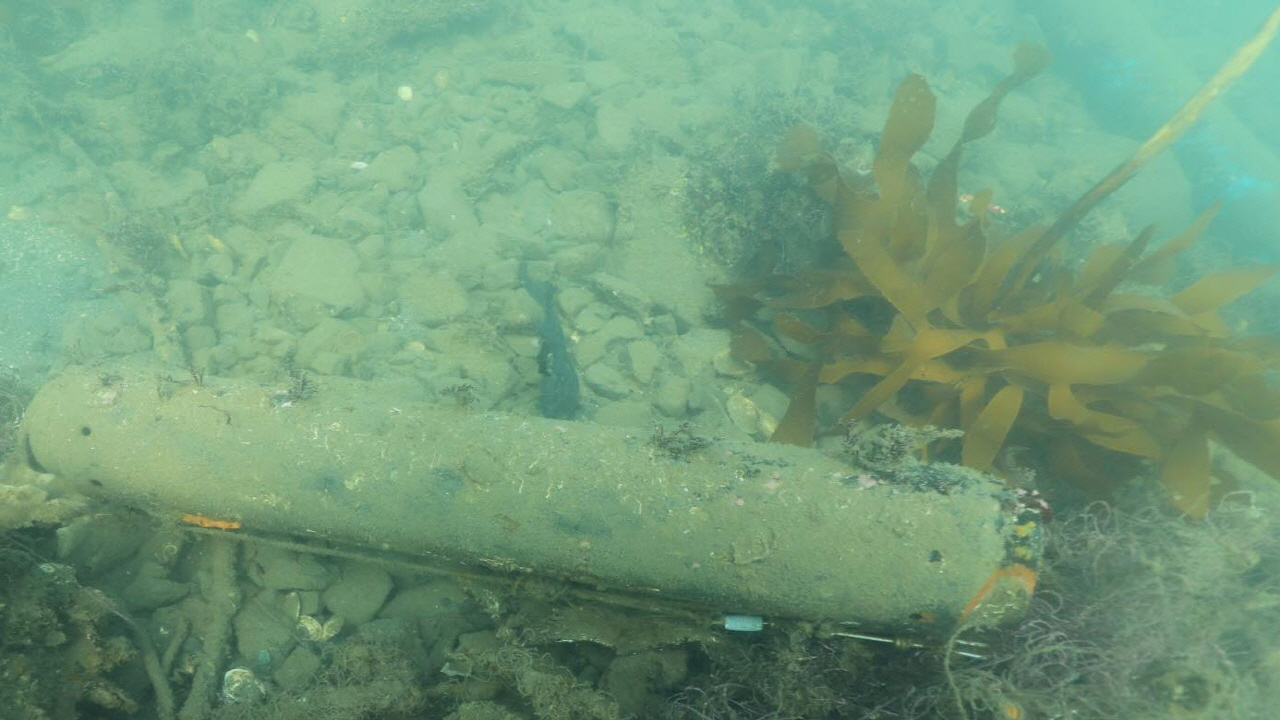eel fish trap: (15, 365, 1043, 637)
